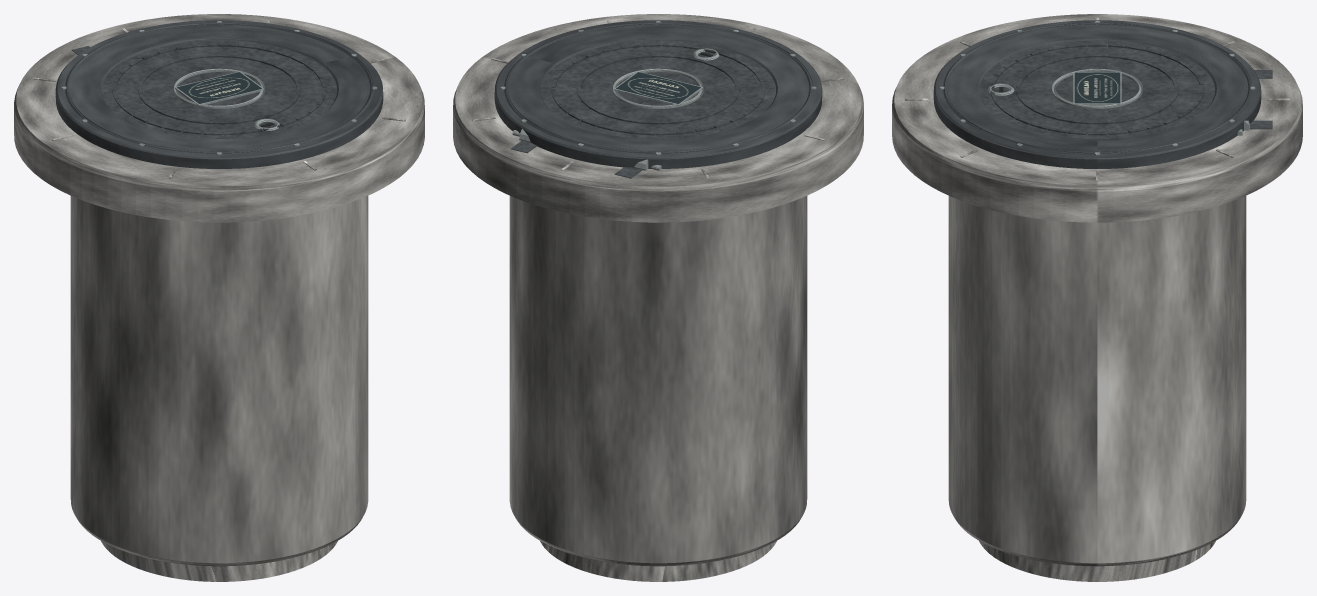
The picture shows the model from 3 angles, left to right: view 1: azimuth 30°, elevation 25°; view 2: azimuth 150°, elevation 25°; view 3: azimuth 270°, elevation 25°; orthographic projection.
Parts seen in each view (by area): view 1: VIS_CONCRETE_SHAFT_concrete, VIS_IRON_FRAME_iron, VIS_COVER_PLATE_iron, VIS_COVER_TREAD_iron, VIS_SHAFT_BASE_concrete, VIS_COVER_SIGN_sign, VIS_COVER_EMBLEM_RING_steel; view 2: VIS_CONCRETE_SHAFT_concrete, VIS_IRON_FRAME_iron, VIS_COVER_PLATE_iron, VIS_COVER_TREAD_iron, VIS_SHAFT_BASE_concrete, VIS_COVER_SIGN_sign, VIS_COVER_EMBLEM_RING_steel; view 3: VIS_CONCRETE_SHAFT_concrete, VIS_IRON_FRAME_iron, VIS_COVER_PLATE_iron, VIS_COVER_TREAD_iron, VIS_SHAFT_BASE_concrete, VIS_COVER_SIGN_sign, VIS_COVER_EMBLEM_RING_steel.
Boxes of the visible parts, <box> form: VIS_CONCRETE_SHAFT_concrete: <box>14,14,424,566</box>; VIS_IRON_FRAME_iron: <box>55,20,383,168</box>; VIS_COVER_PLATE_iron: <box>102,40,336,138</box>; VIS_COVER_TREAD_iron: <box>112,43,326,135</box>; VIS_SHAFT_BASE_concrete: <box>101,541,337,581</box>; VIS_COVER_SIGN_sign: <box>177,72,261,103</box>; VIS_COVER_EMBLEM_RING_steel: <box>174,68,264,108</box>; VIS_CONCRETE_SHAFT_concrete: <box>453,14,863,566</box>; VIS_IRON_FRAME_iron: <box>494,20,822,168</box>; VIS_COVER_PLATE_iron: <box>541,40,775,138</box>; VIS_COVER_TREAD_iron: <box>551,43,765,135</box>; VIS_SHAFT_BASE_concrete: <box>540,541,776,581</box>; VIS_COVER_SIGN_sign: <box>616,72,700,103</box>; VIS_COVER_EMBLEM_RING_steel: <box>613,68,703,108</box>; VIS_CONCRETE_SHAFT_concrete: <box>892,14,1302,566</box>; VIS_IRON_FRAME_iron: <box>933,20,1261,168</box>; VIS_COVER_PLATE_iron: <box>979,40,1215,138</box>; VIS_COVER_TREAD_iron: <box>990,43,1204,135</box>; VIS_SHAFT_BASE_concrete: <box>979,541,1215,581</box>; VIS_COVER_SIGN_sign: <box>1074,72,1120,103</box>; VIS_COVER_EMBLEM_RING_steel: <box>1052,68,1142,108</box>.
Size of the model in its own units: 1.92 by 2.29 by 1.92.
5 materials, 5 textured.
